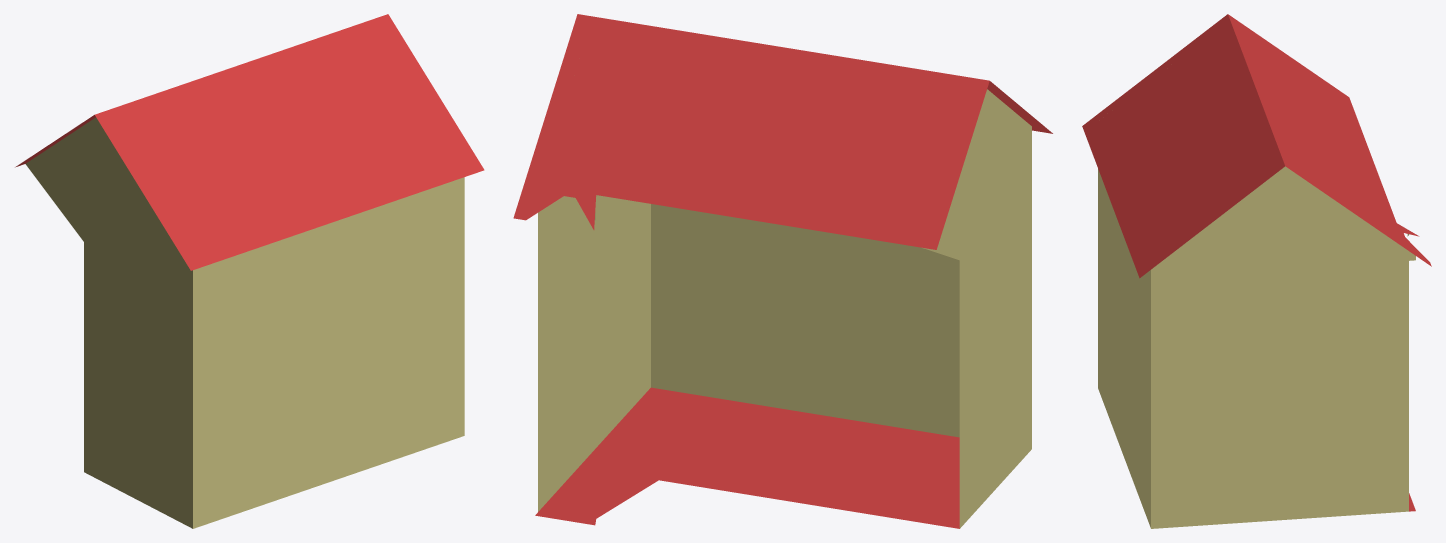
3 renders of one model, left to right at view 1: azimuth 30°, elevation 25°; view 2: azimuth 150°, elevation 25°; view 3: azimuth 270°, elevation 25°, orthographic. The views are drawn at different scales.
Size of the model in its own units: 14.58 by 12.65 by 14.35.
